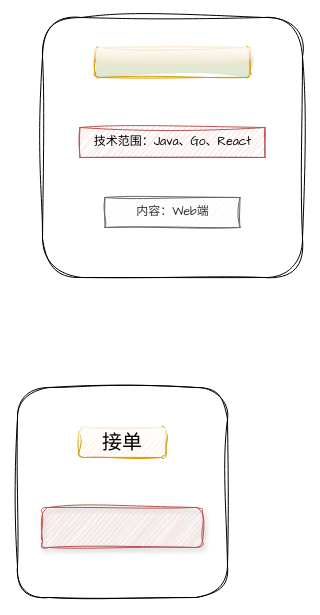
This 320x615 diagram has some shape labels left out. The centre of each missing label's shape, as x and y in pixels:
"代做定制化需求" belongs at point (172, 62).
"服务范围：软件安装、配置、代码调试、博客搭建等" belongs at point (123, 528).
